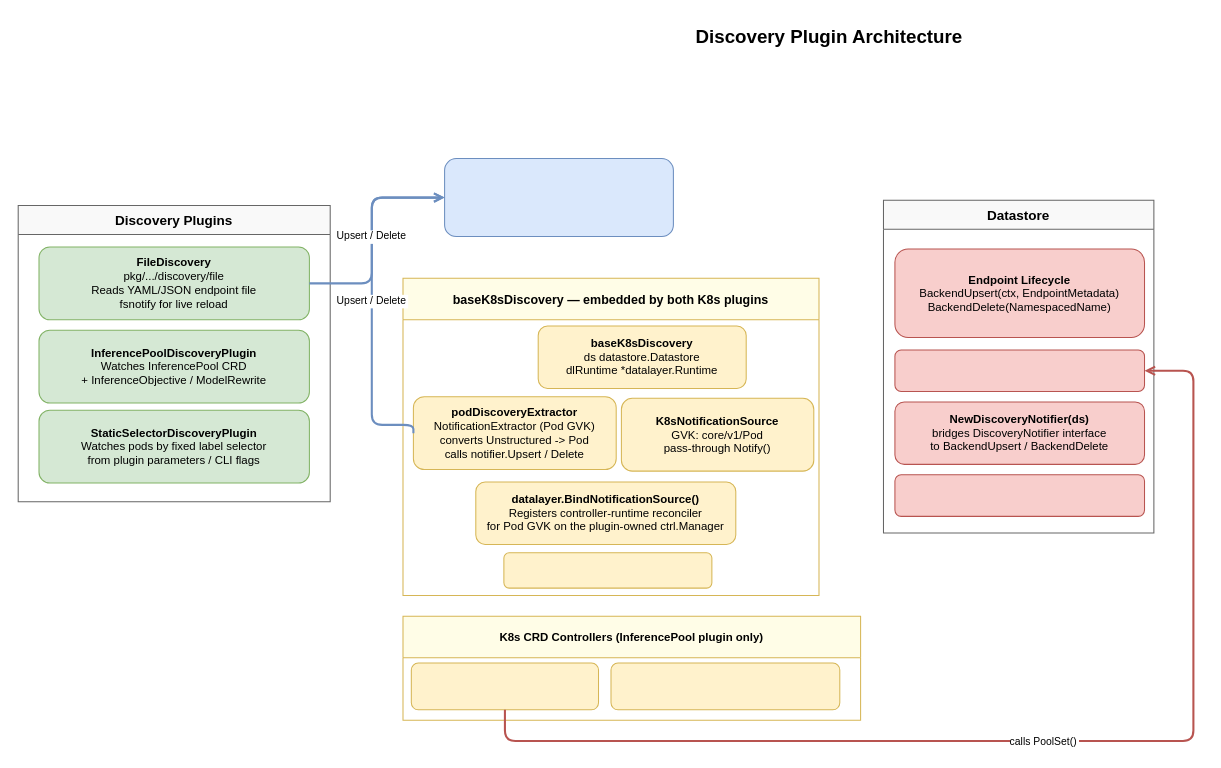
Image size: 1221x768. Some labels were removed from this diagram. Here are the shapes that lost their labels. From the top down, the centre of each, then its label:
point 558,197: <<interface>> DiscoveryNotifier Upsert(EndpointMetadata) Delete(NamespacedName)
point 1019,370: Pool Management
point 1019,495: EPP Runner creates: NewDatastore().WithEndpointPool(pool)
point 607,570: ctrl.Manager Namespace-scoped Pod cache + CRD caches (InferencePool case)
point 504,686: InferencePoolReconciler calls ds.PoolSet() on CRD change
point 725,686: InferenceObjective / ModelRewriteReconciler (when CRDs are installed)
